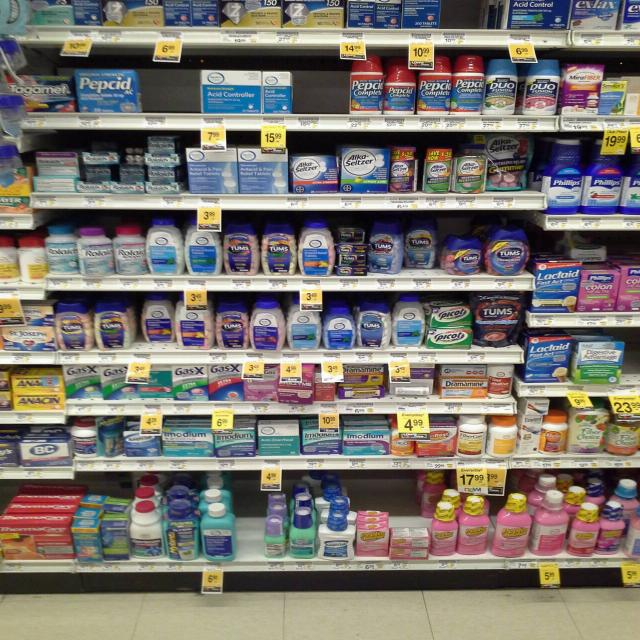empty: (287, 58, 358, 116), (136, 62, 203, 108), (226, 481, 264, 554), (438, 1, 502, 37), (620, 321, 640, 384)
